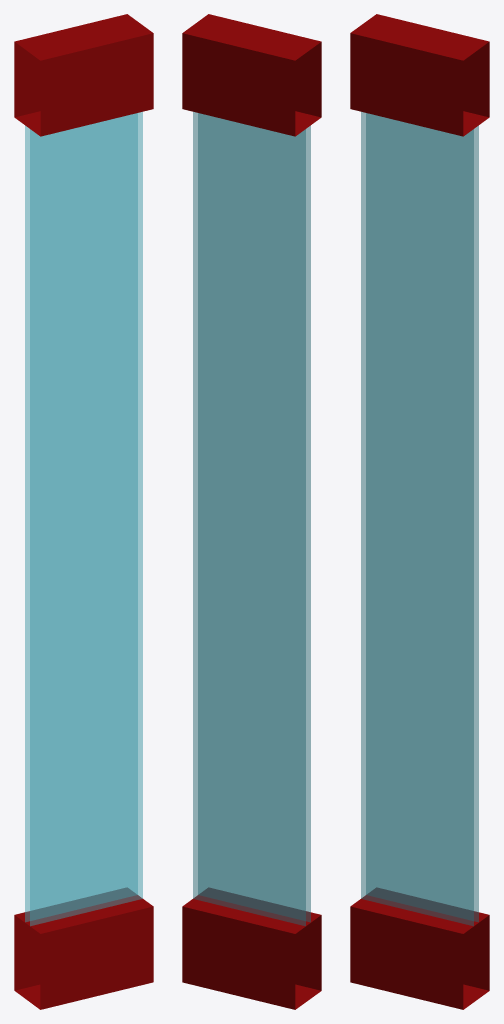
Rendered from paredCristalSinEsquinas.fbx.
3 renders of one model, left to right at view 1: azimuth 30°, elevation 25°; view 2: azimuth 150°, elevation 25°; view 3: azimuth 330°, elevation 25°, orthographic.
Parts seen in each view (by area): view 1: Group001, Box002; view 2: Group001, Box002; view 3: Group001, Box002.
Part boxes in pixels (left/top/right/bottom): Group001: left=25, top=112, right=142, bottom=926; Box002: left=14, top=14, right=153, bottom=1009; Group001: left=193, top=112, right=310, bottom=926; Box002: left=182, top=14, right=321, bottom=1009; Group001: left=361, top=112, right=478, bottom=926; Box002: left=350, top=14, right=489, bottom=1009.
Size of the model in its own units: 0.4996 by 4 by 0.2.
